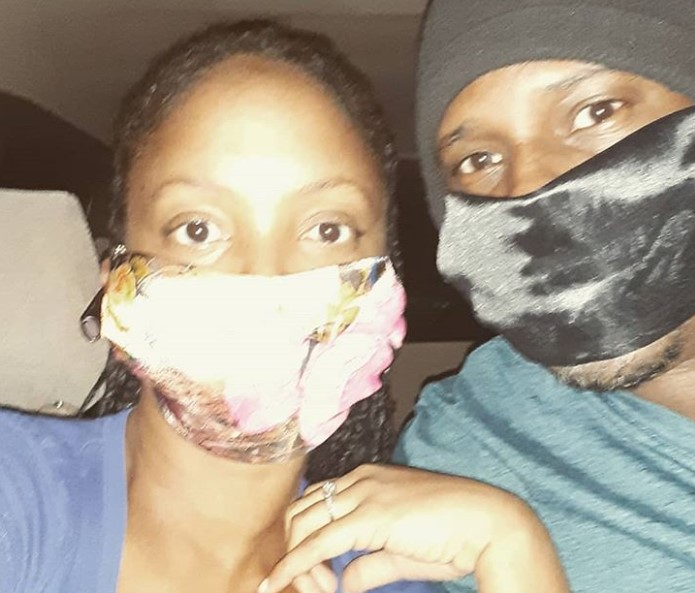face_with_mask: (103, 15, 411, 465), (414, 7, 689, 394)
